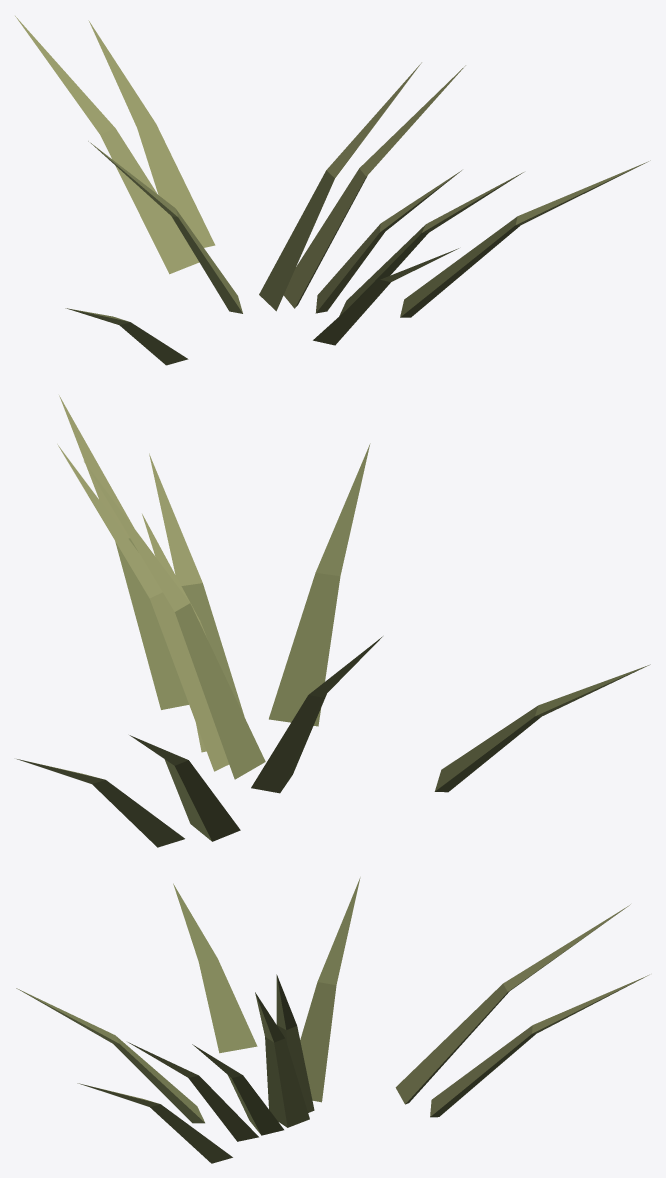
The model's file is prop_temperate_grass_0.glb.
The picture shows the model from 3 angles, top to bottom: view 1: azimuth 30°, elevation 25°; view 2: azimuth 150°, elevation 25°; view 3: azimuth 270°, elevation 25°; orthographic projection. The views are drawn at different scales.
Parts seen in each view (by area): view 1: Body; view 2: Body; view 3: Body.
Boxes of the visible parts, x1=… form: Body: x1=15, y1=16, x2=650, y2=365; Body: x1=17, y1=395, x2=650, y2=847; Body: x1=16, y1=877, x2=649, y2=1163.
Size of the model in its own units: 1.12 by 0.4393 by 1.2.
